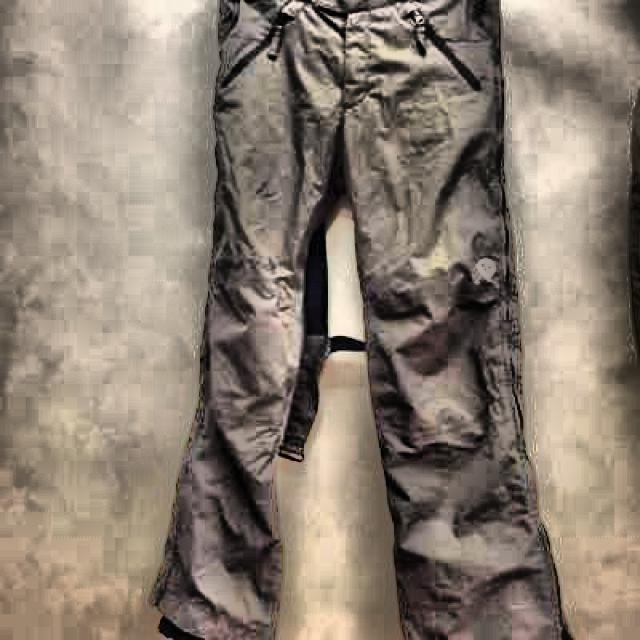clothes: (149, 0, 578, 640)
